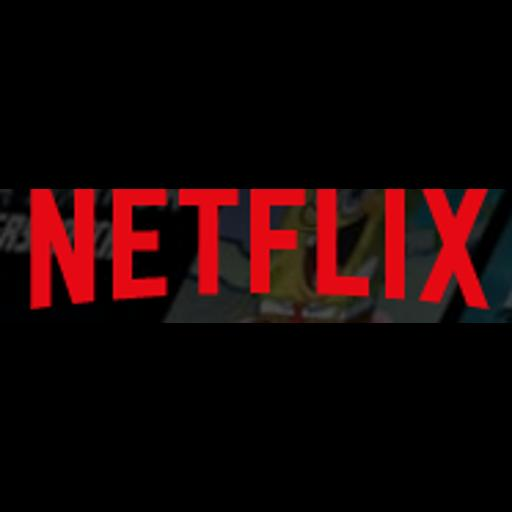Netflix: (0, 189, 512, 323)
